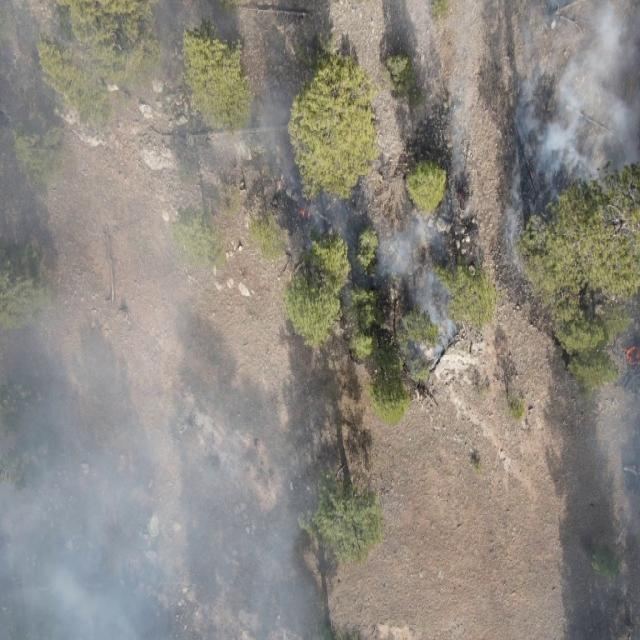fire: (624, 343, 640, 368), (298, 203, 312, 225)
smoke: (0, 0, 355, 640), (437, 0, 640, 221), (355, 172, 484, 358), (583, 299, 640, 640), (502, 221, 527, 289)
